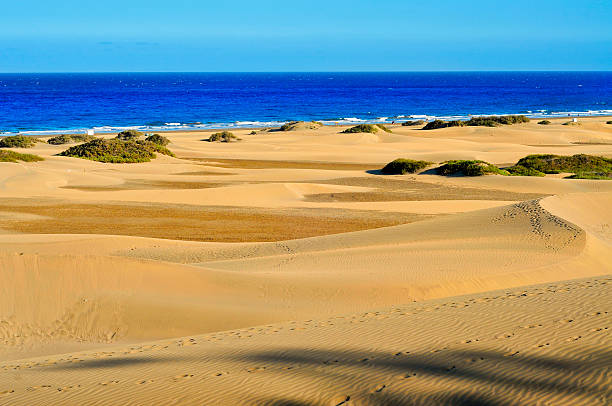human_foot_print: (359, 309, 605, 367), (330, 395, 350, 405), (175, 338, 196, 346), (26, 385, 51, 391), (57, 385, 80, 391), (398, 372, 417, 379), (173, 374, 193, 380), (460, 338, 480, 344), (246, 366, 265, 372), (373, 384, 386, 392), (393, 351, 410, 357), (503, 350, 519, 356), (468, 356, 484, 362), (99, 380, 118, 385), (566, 335, 581, 341), (495, 333, 513, 338), (520, 324, 542, 328), (429, 347, 446, 352), (211, 371, 228, 376), (137, 379, 154, 384), (0, 389, 14, 395), (586, 311, 607, 315), (322, 359, 338, 364), (590, 327, 608, 331), (445, 365, 456, 371), (534, 343, 550, 347), (559, 319, 573, 323), (282, 365, 294, 369)
